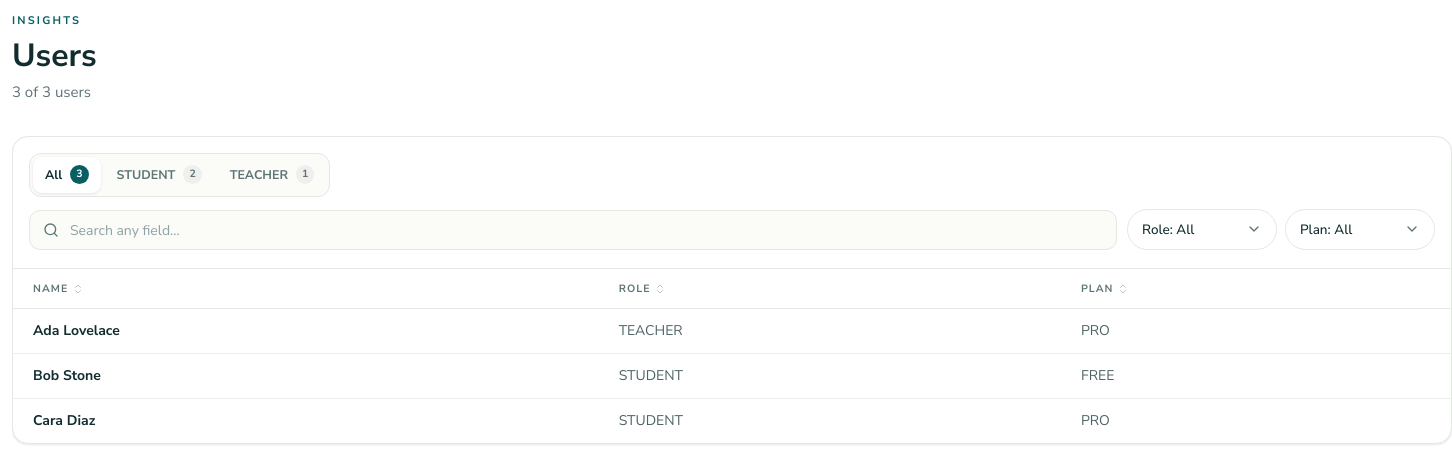
DataTable › splits the list with counted tabs
The image size is (1452, 462).
What coordinates should you click on to do the following:
click the tab "STUDENT 2"
I would click on:
 (159, 175)
Its box is [105,157,214,193].
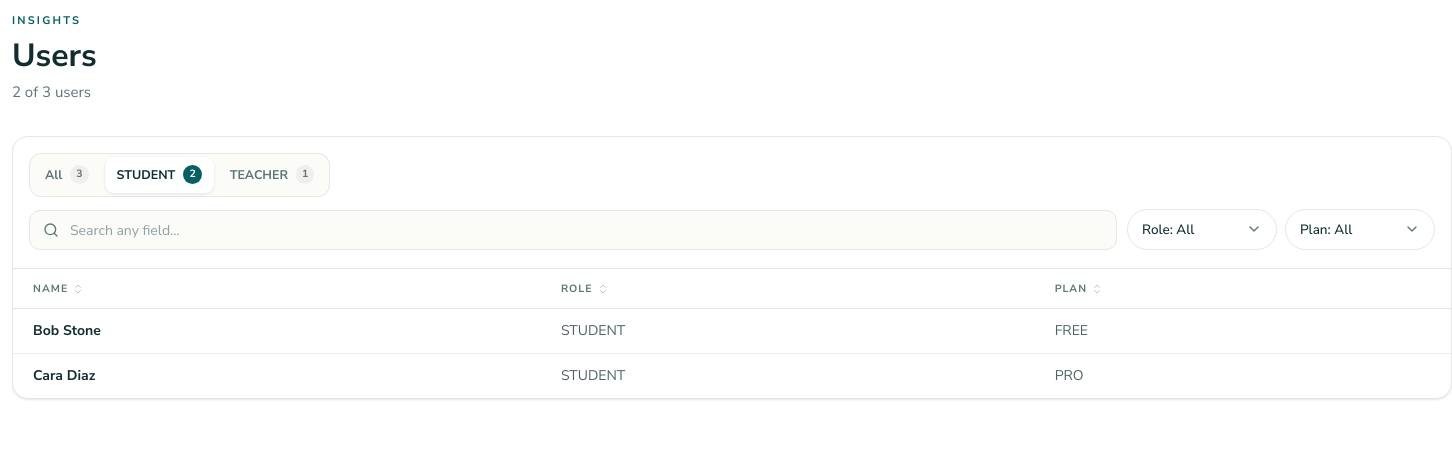
Expected: the text "Ada Lovelace" is gone
Expected: the text "2 of 3 users" is shown, [12,82,91,102]
